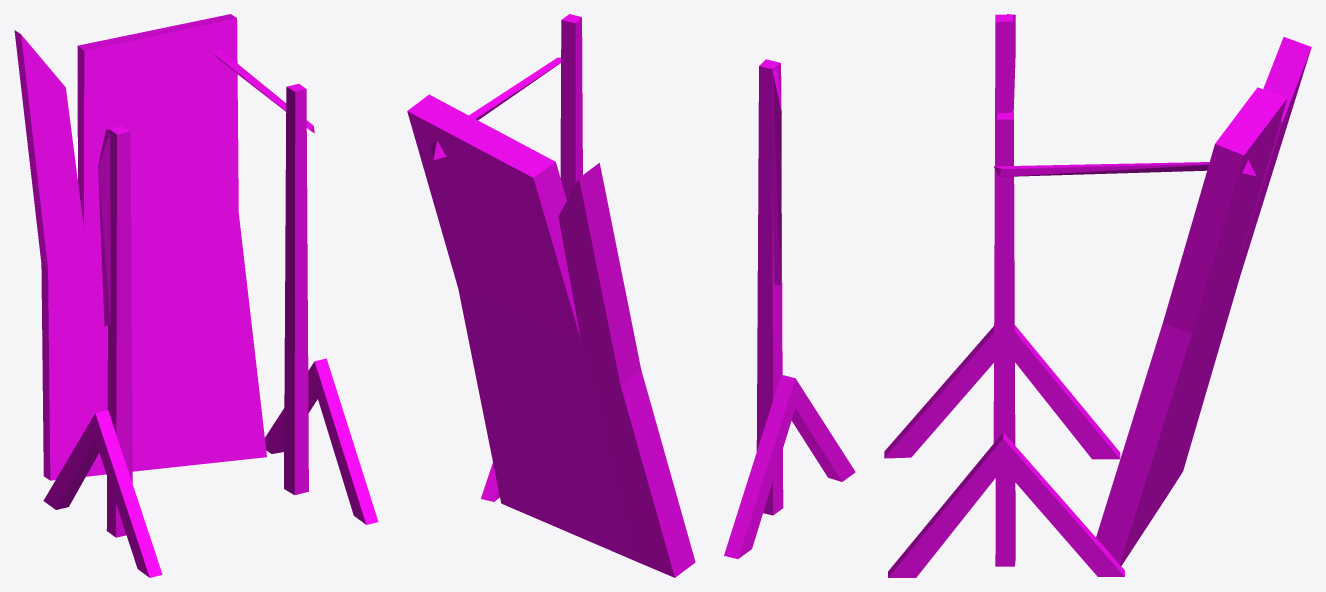
File: cave old bridge.obj
3 renders of one model, left to right at view 1: azimuth 30°, elevation 25°; view 2: azimuth 150°, elevation 25°; view 3: azimuth 270°, elevation 25°, orthographic. The views are drawn at different scales.
Visible parts, largest first — view 1: cave old bridge_back; view 2: cave old bridge_back; view 3: cave old bridge_back.
Boxes of the visible parts, x1,y1,x2,y2 form: cave old bridge_back: [14, 14, 378, 577]; cave old bridge_back: [407, 14, 855, 577]; cave old bridge_back: [884, 14, 1311, 577].
Size of the model in its own units: 3.22 by 5.14 by 4.42.
